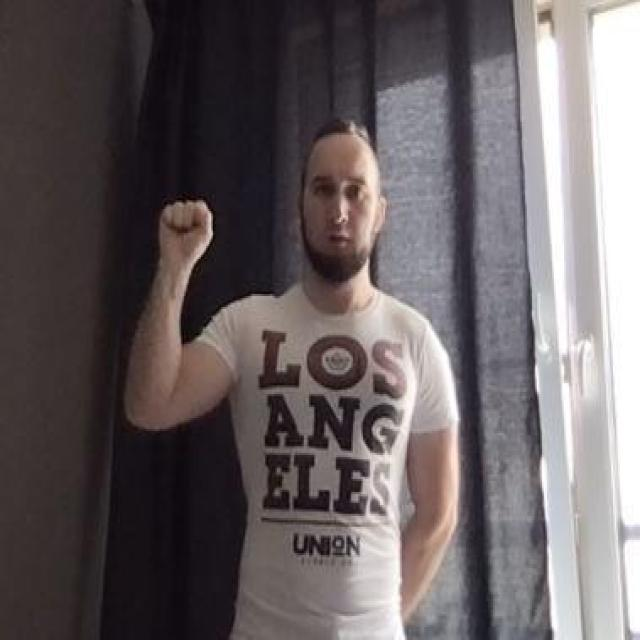hand: (157, 196, 213, 274)
